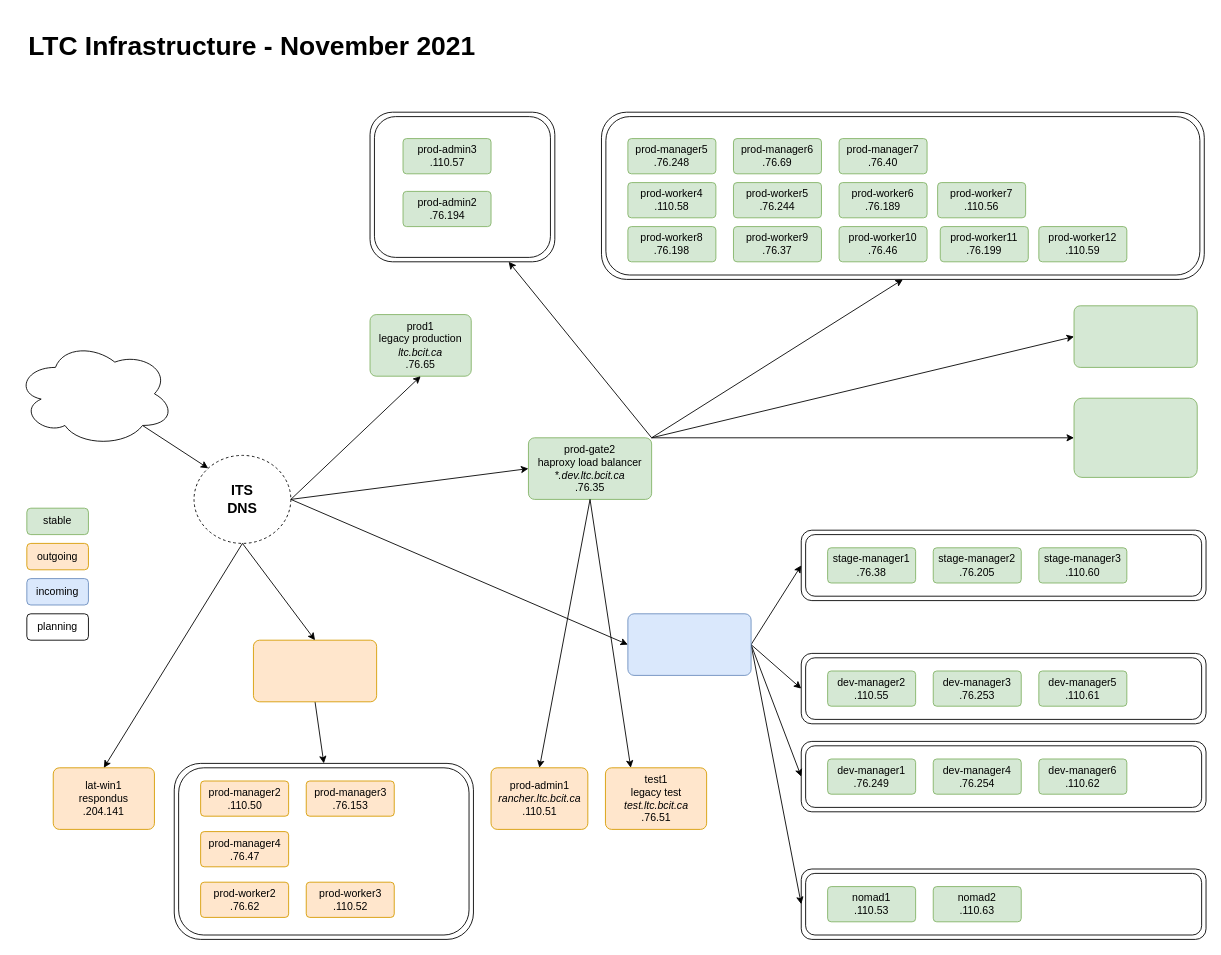
The diagram is 1221 pixels wide and 955 high, and some of its shapes have lost their labels. Here are the shapes that lost their labels. From the top down, the box of each, then its label:
(369, 111, 555, 262): admin cluster
(601, 111, 1204, 279): prod cluster
(1073, 305, 1197, 367): vault secrets management vault.ltc.bcit.ca .76.63
(15, 340, 174, 447): Internet
(1073, 397, 1197, 477): prod4 GitLab VCS issues.ltc.bcit.ca mattermost.ltc.bcit.ca .76.41
(800, 529, 1206, 601): staging cluster
(627, 613, 751, 675): dev-gate3 haproxy load balancer .110.54
(253, 639, 377, 702): prod-gate1 nginx load balancer .76.186
(800, 653, 1206, 724): vsm dev cluster
(800, 741, 1206, 812): cp dev cluster
(173, 763, 473, 939): old prod cluster
(800, 868, 1206, 939): nomad cluster
